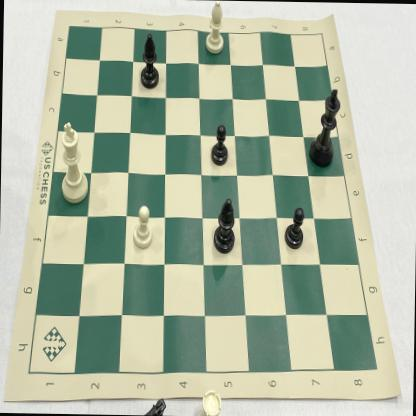bishop: (210, 195, 240, 256)
black-bishop: (138, 28, 164, 94)
black-king: (307, 78, 344, 170)
black-pawn: (282, 202, 305, 253), (209, 119, 230, 166)
white-bishop: (203, 0, 228, 59)
white-king: (53, 116, 90, 209)
white-pawn: (129, 199, 157, 252)
